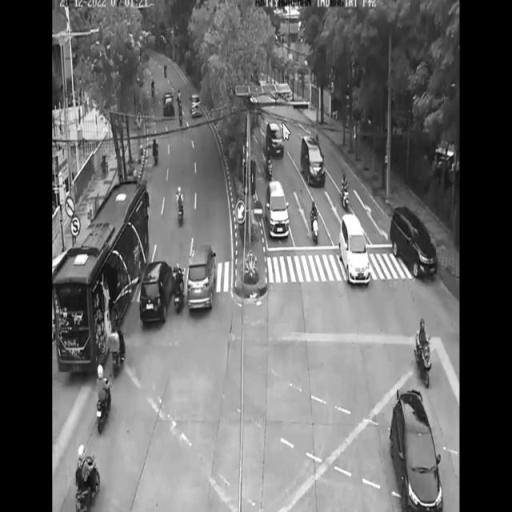bus: (58, 178, 147, 372)
car: (383, 390, 445, 512), (389, 205, 439, 281), (338, 214, 373, 287), (140, 260, 168, 324), (188, 245, 214, 312), (300, 133, 328, 189), (265, 180, 291, 238), (264, 122, 287, 158), (189, 92, 205, 120), (161, 90, 175, 120)
motorcycle: (72, 454, 103, 512), (92, 378, 114, 434), (413, 342, 435, 388), (109, 335, 127, 374), (172, 268, 186, 316), (174, 202, 190, 227), (310, 213, 321, 244), (342, 191, 352, 210), (151, 146, 160, 166), (265, 161, 274, 177)
